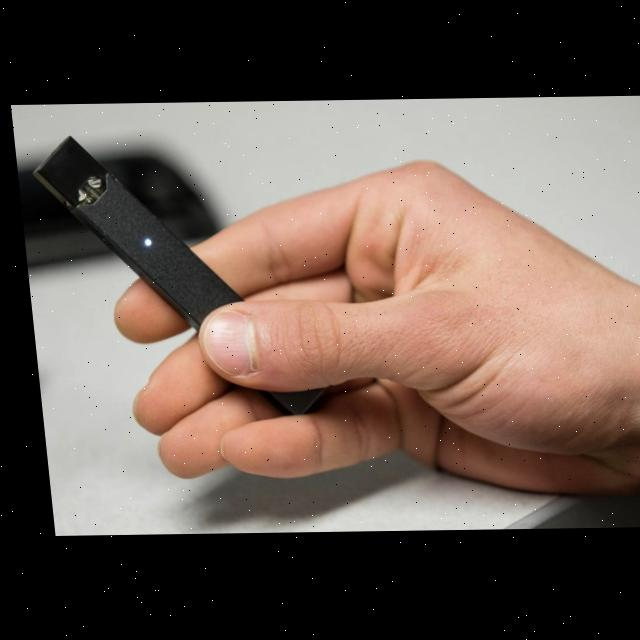vape: (24, 132, 240, 333)
